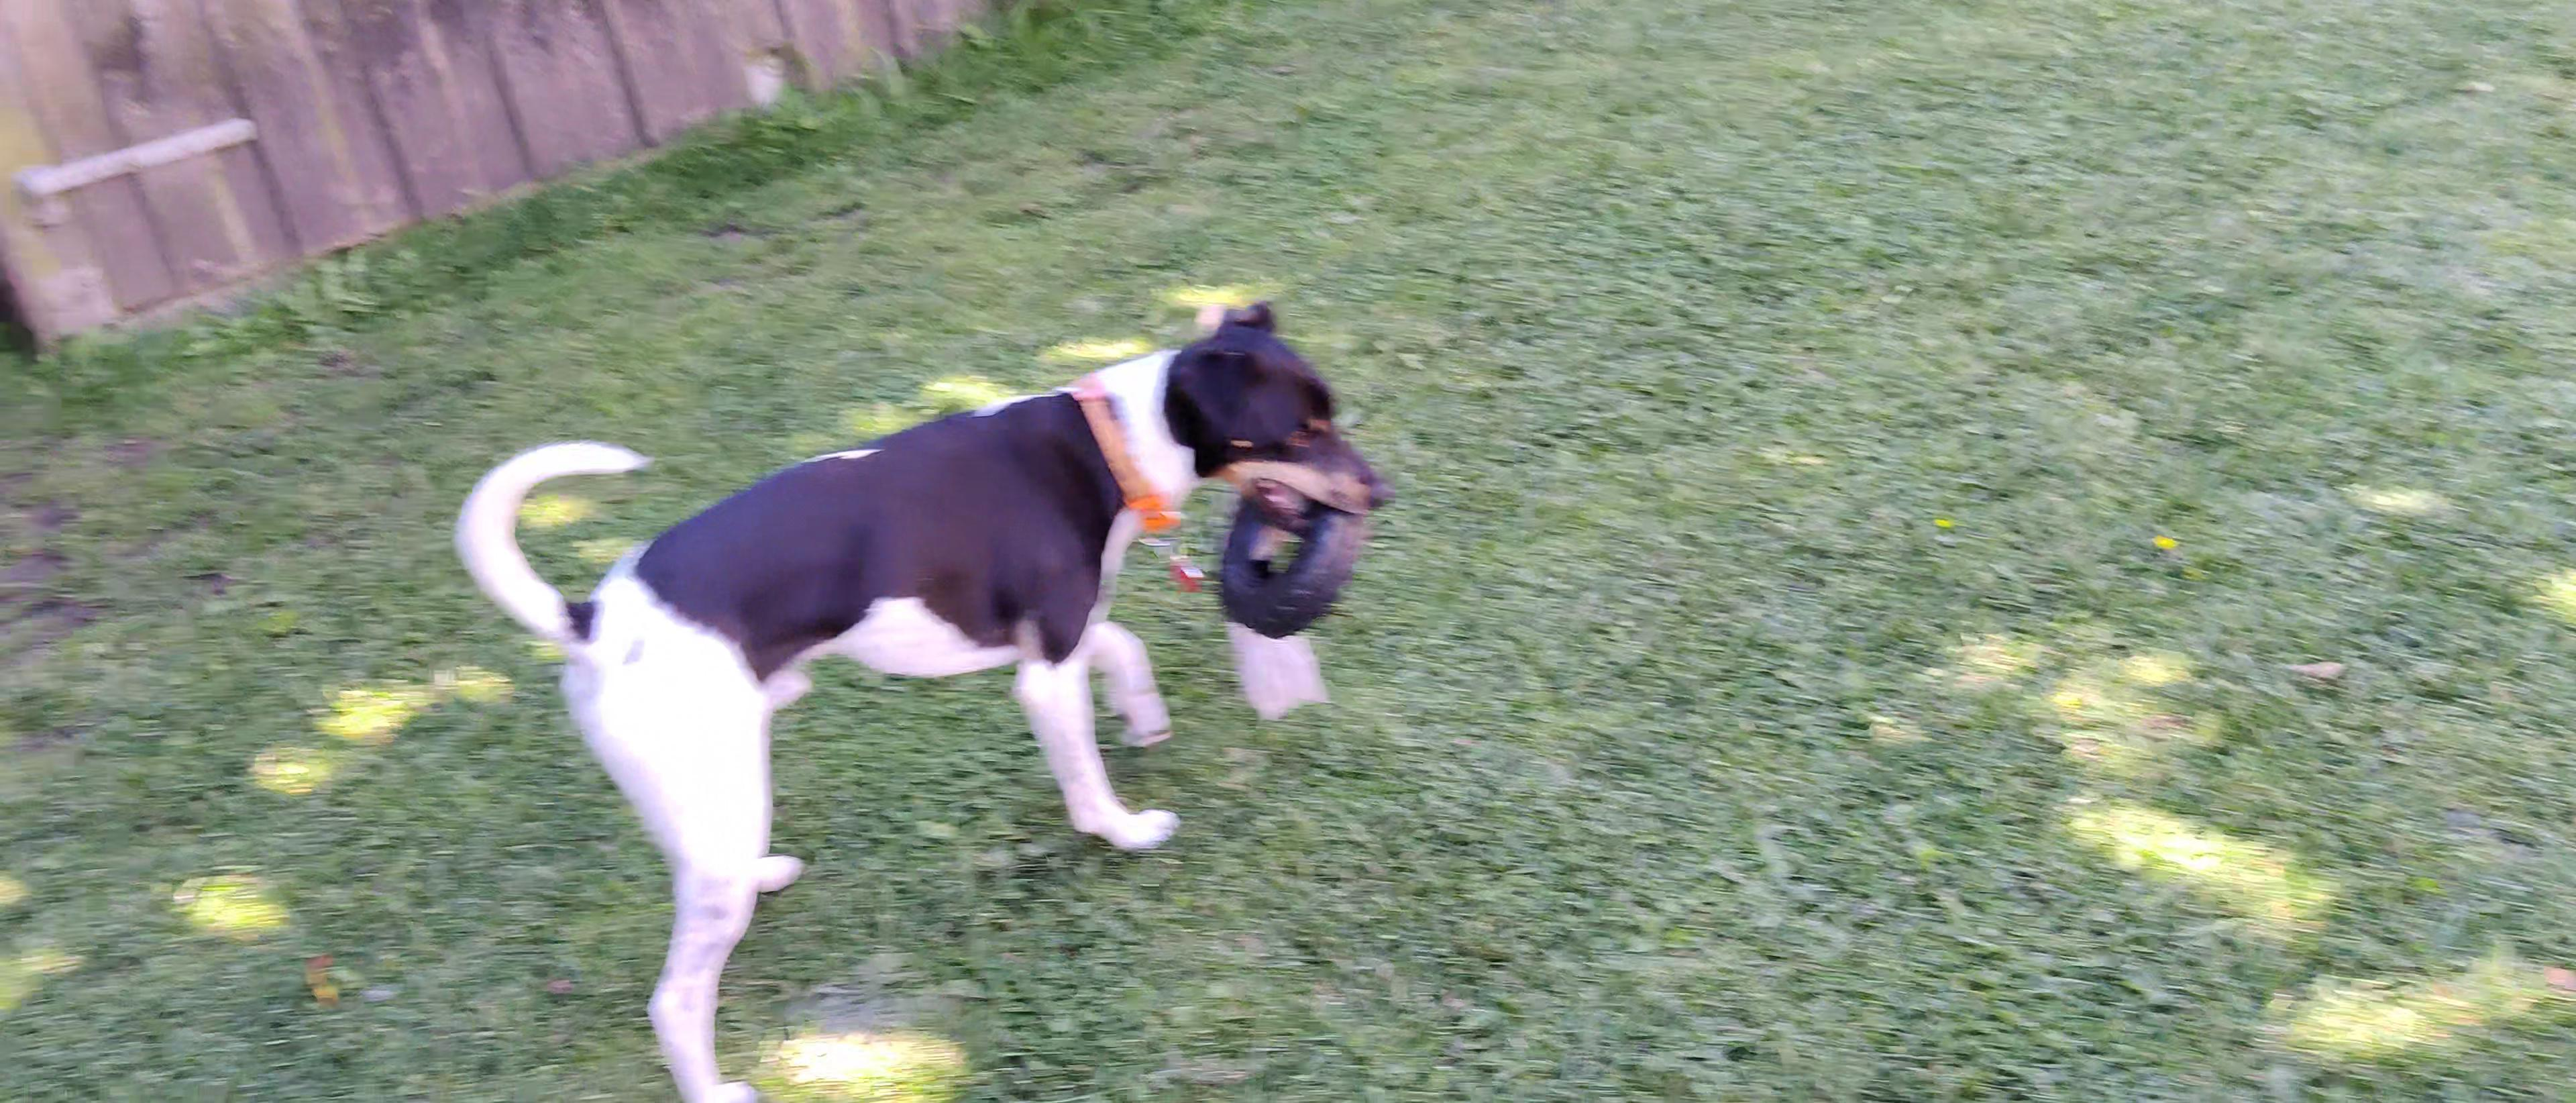Dog: (444, 286, 1408, 1103)
